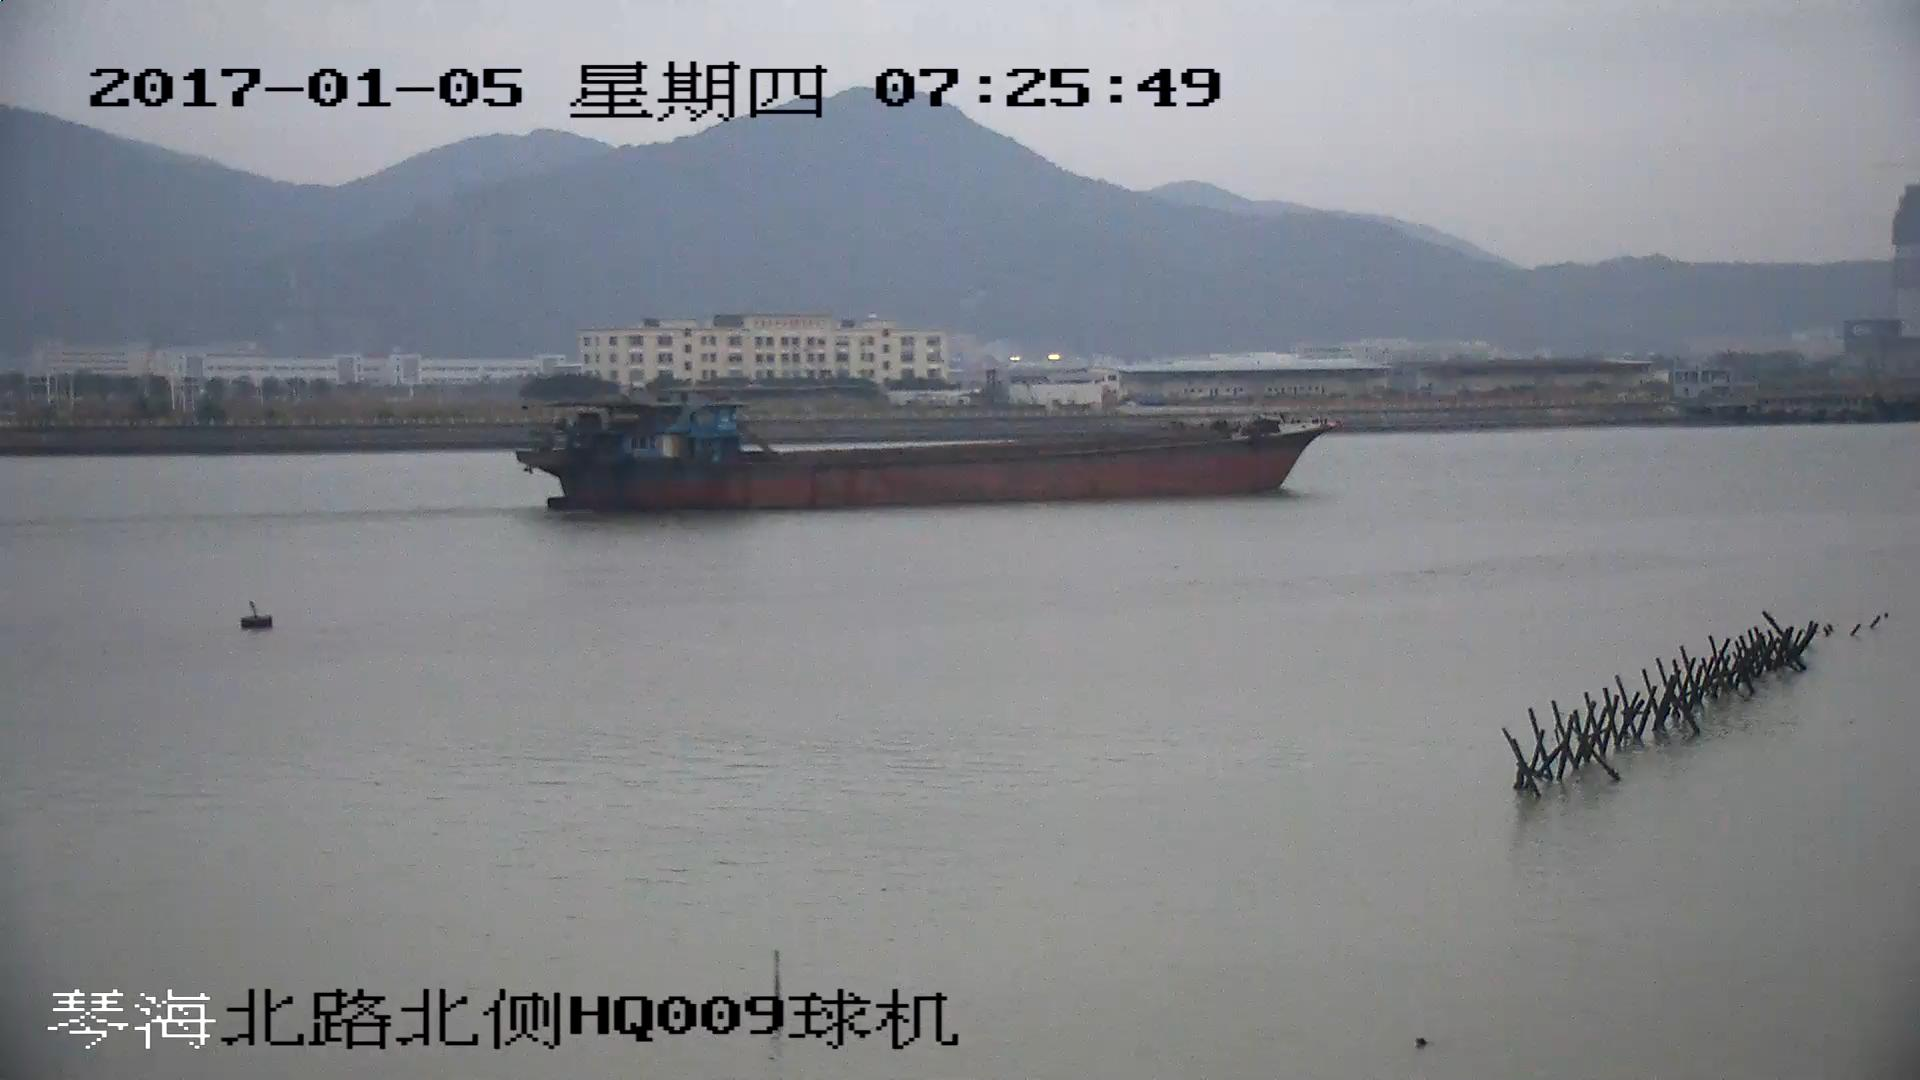bulk cargo carrier: (511, 402, 1333, 516)
